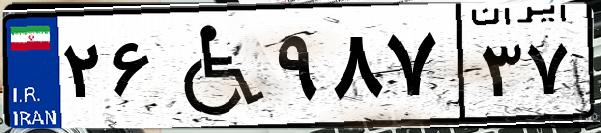2: (57, 26, 110, 100)
3: (475, 38, 525, 113)
6: (110, 28, 158, 98)
7: (385, 28, 445, 110), (525, 38, 570, 115)
8: (330, 28, 385, 110)
9: (270, 28, 330, 110)
ژ (معلولین و جانبازان): (158, 12, 270, 120)
